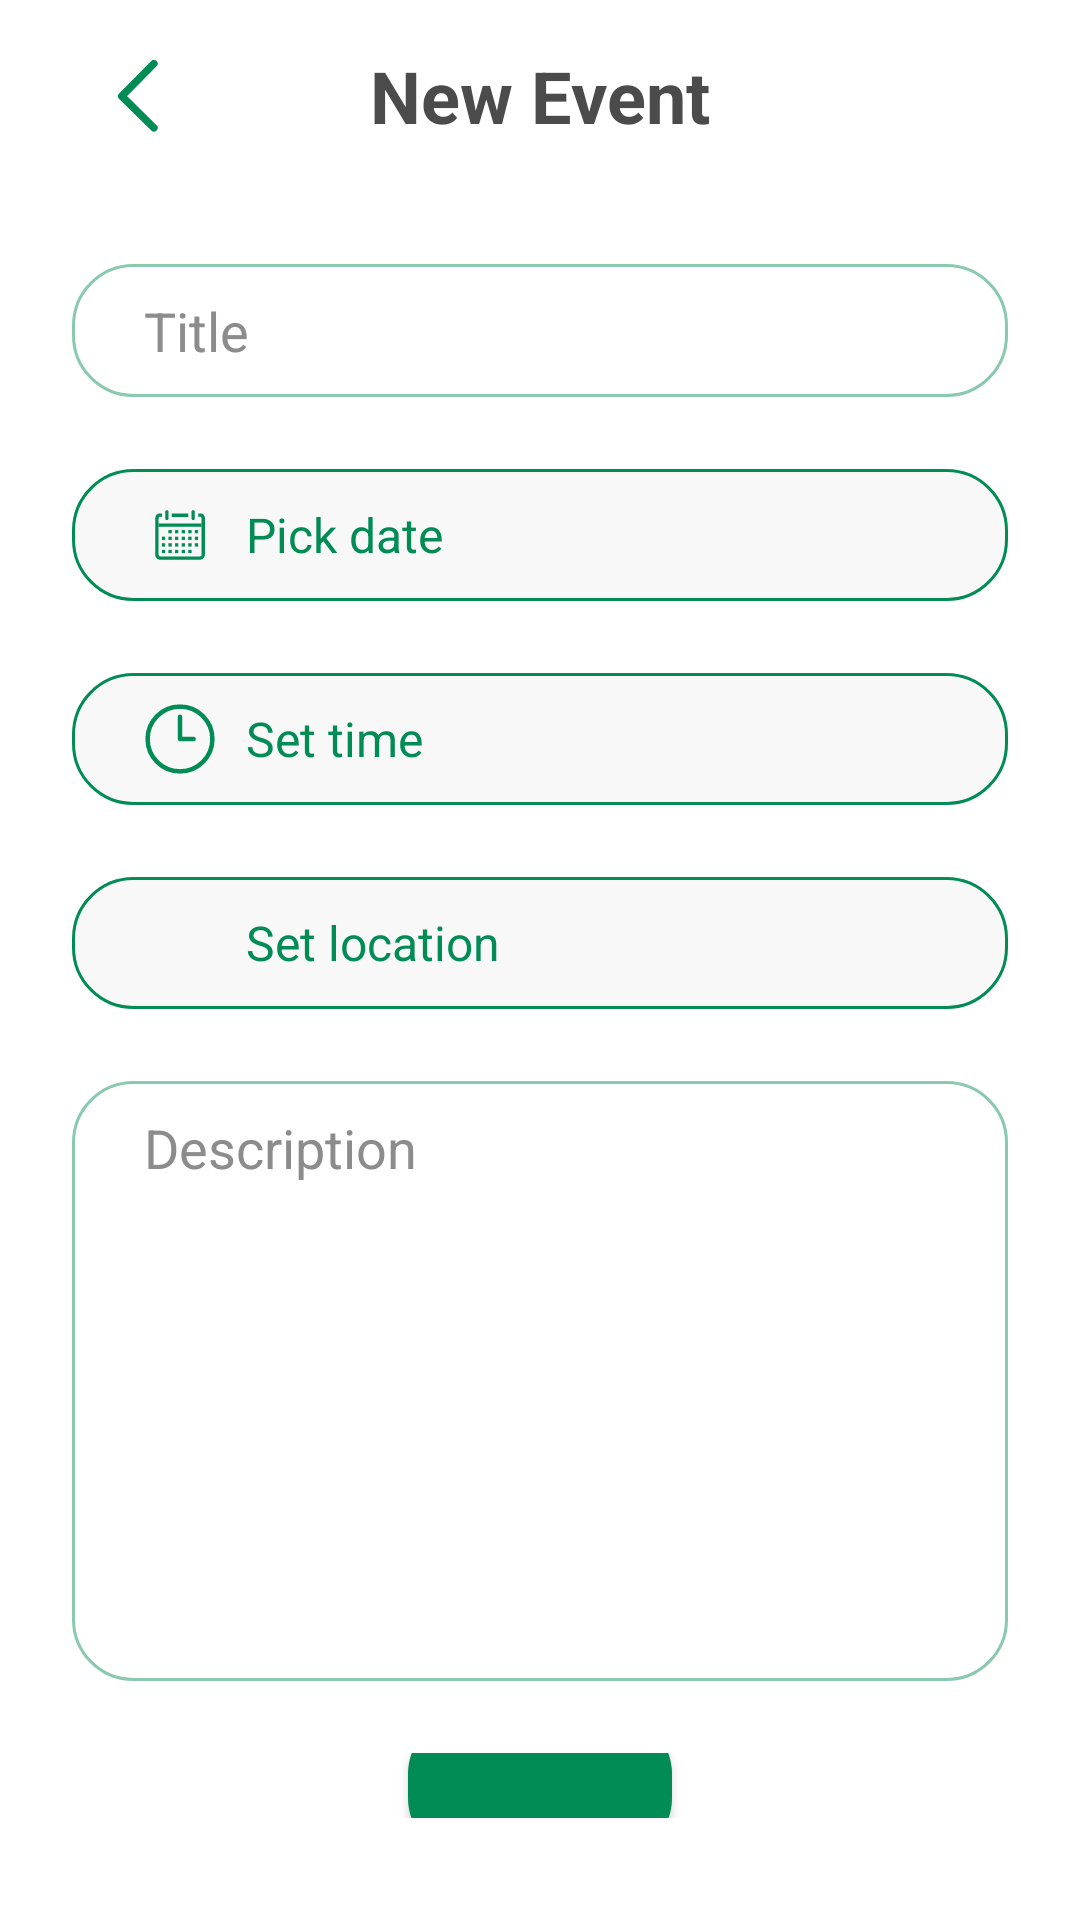

Screen size 1080w x 1920h. Icon name, then its center in pixels as [x,y]:
arrow left: [138,96]
calendar: [180,535]
